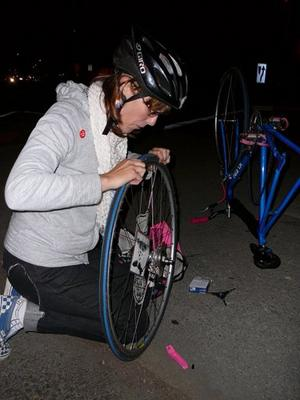person: (1, 29, 191, 347)
